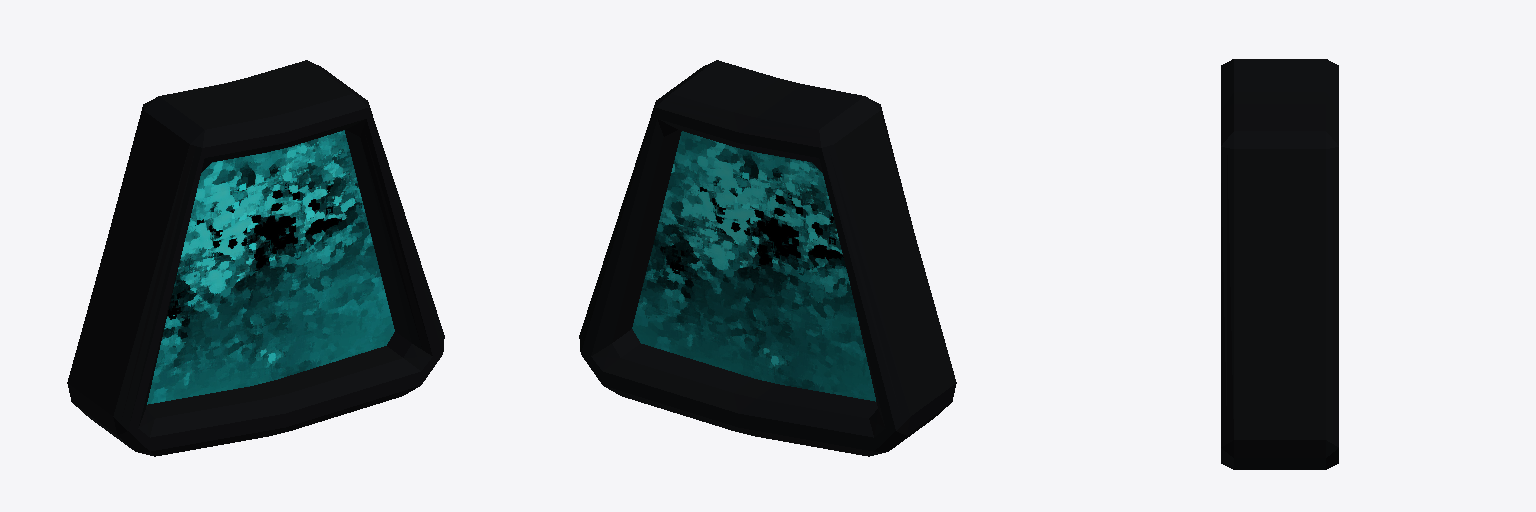
3 views of the same model, side by side, from view 1: azimuth 30°, elevation 25°; view 2: azimuth 150°, elevation 25°; view 3: azimuth 270°, elevation 25° (orthographic).
Visible parts, largest first — view 1: Box001; view 2: Box001; view 3: Box001.
Boxes of the visible parts, <box> form: Box001: <box>67,60,444,456</box>; Box001: <box>579,60,956,456</box>; Box001: <box>1221,59,1338,469</box>.
Size of the model in its own units: 9.79 by 9.1 by 3.04.
Materials: 1 (1 with a texture image).